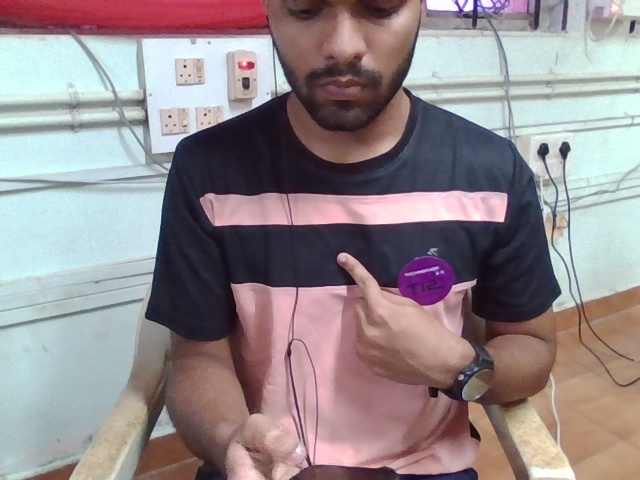my turn: (326, 223, 537, 431)
